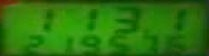-: (138, 24, 153, 34)
1: (169, 5, 189, 30), (40, 5, 58, 30), (82, 5, 98, 30), (60, 33, 73, 54)
2: (22, 31, 49, 52)
3: (111, 4, 138, 33)
5: (107, 34, 129, 54)
6: (162, 33, 189, 53)
7: (135, 34, 160, 55)
9: (78, 33, 98, 54)
